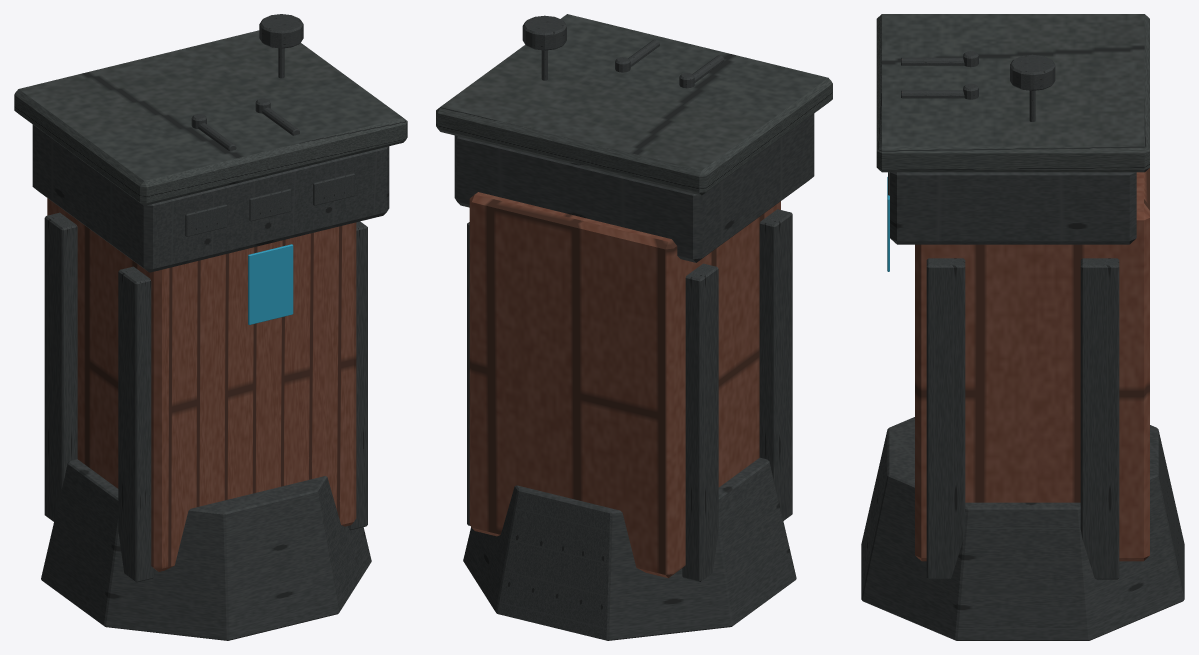
Rendered from edificio-tower-e4-lod0-BKhyIGX9.glb.
3 renders of one model, left to right at view 1: azimuth 30°, elevation 25°; view 2: azimuth 150°, elevation 25°; view 3: azimuth 270°, elevation 25°, orthographic. The views are drawn at different scales.
Visible parts, largest first — view 1: envolvente_torre, team_color, mecanismo_ataque_torre_e4; view 2: envolvente_torre, mecanismo_ataque_torre_e4; view 3: envolvente_torre, mecanismo_ataque_torre_e4.
Boxes of the visible parts, left/top/right/bottom form: envolvente_torre: left=14, top=30, right=407, bottom=640; team_color: left=248, top=244, right=293, bottom=324; mecanismo_ataque_torre_e4: left=191, top=14, right=303, bottom=150; envolvente_torre: left=436, top=14, right=832, bottom=640; mecanismo_ataque_torre_e4: left=522, top=15, right=724, bottom=88; envolvente_torre: left=861, top=14, right=1184, bottom=640; mecanismo_ataque_torre_e4: left=901, top=51, right=1055, bottom=121.
Size of the model in its own units: 33.6 by 63.05 by 33.57.
2 materials, 1 textured.
